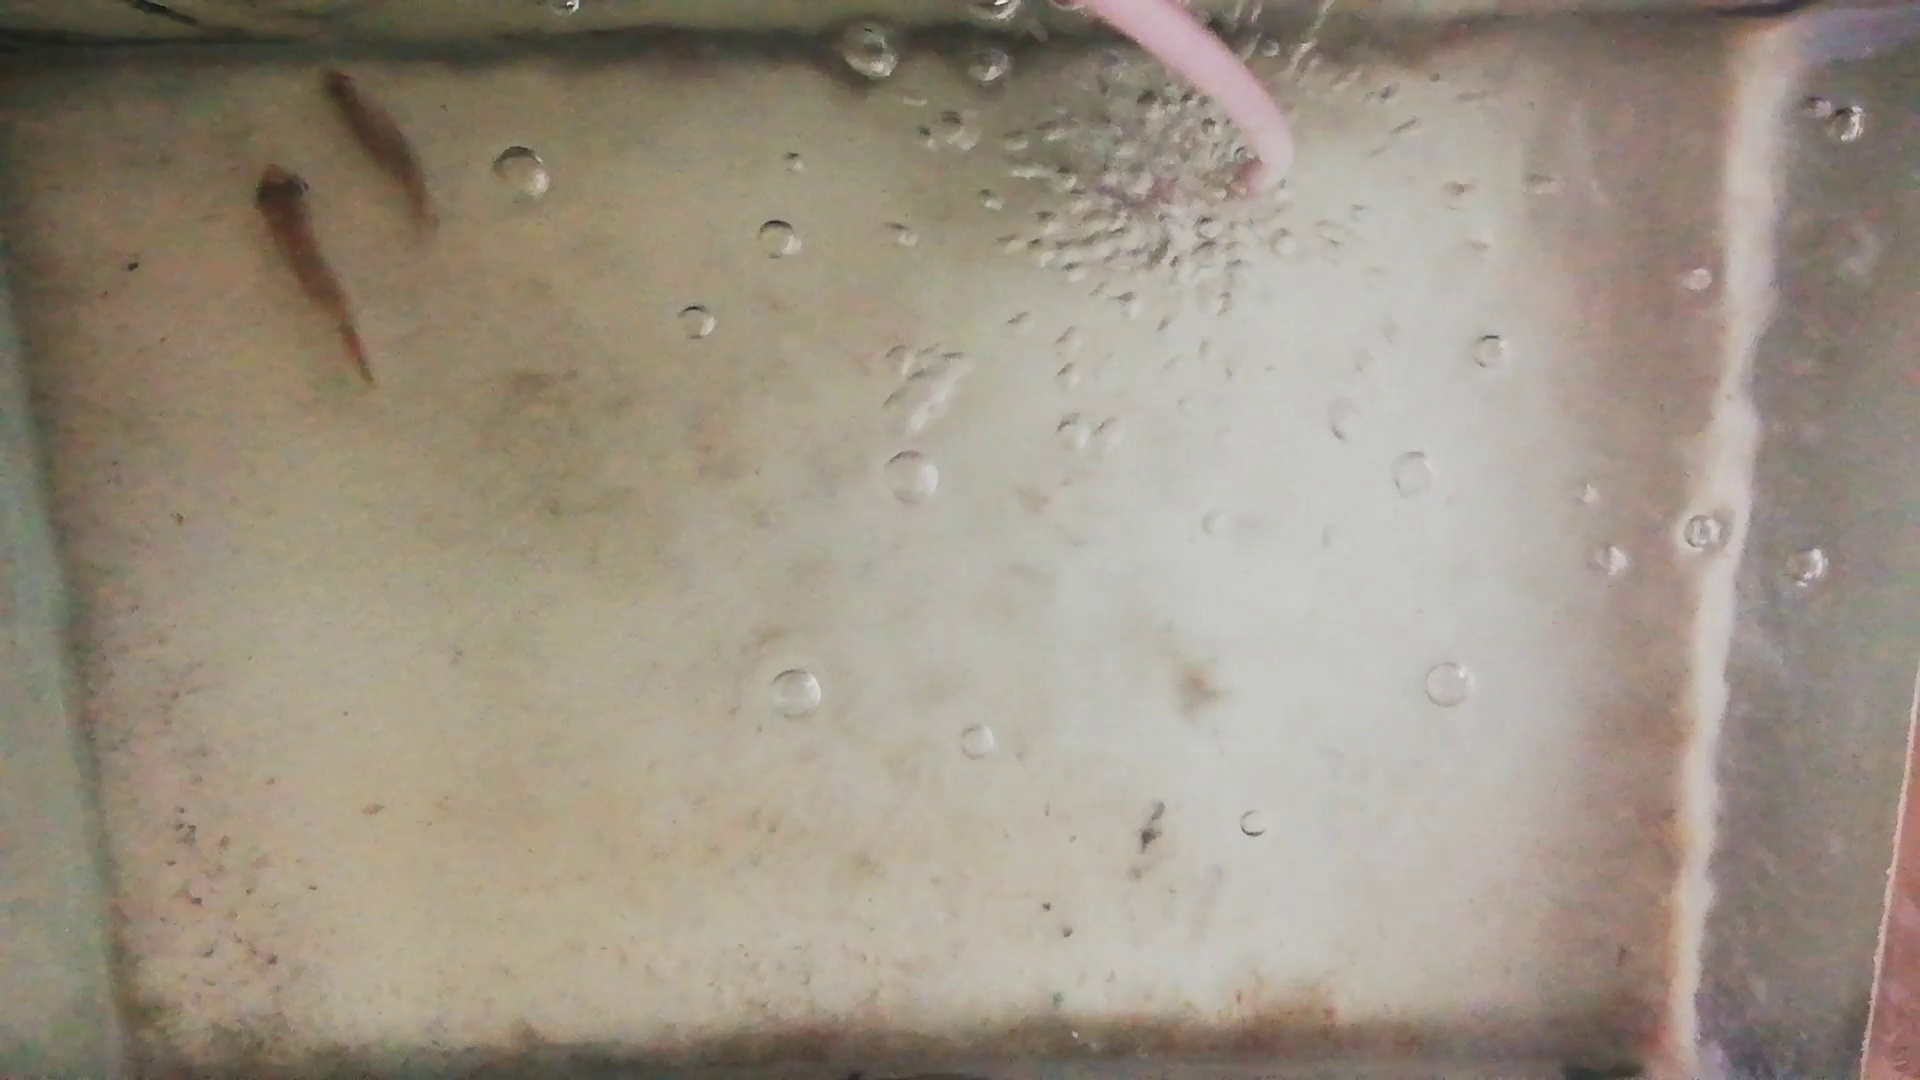fish: (255, 164, 378, 382), (315, 62, 430, 207)
